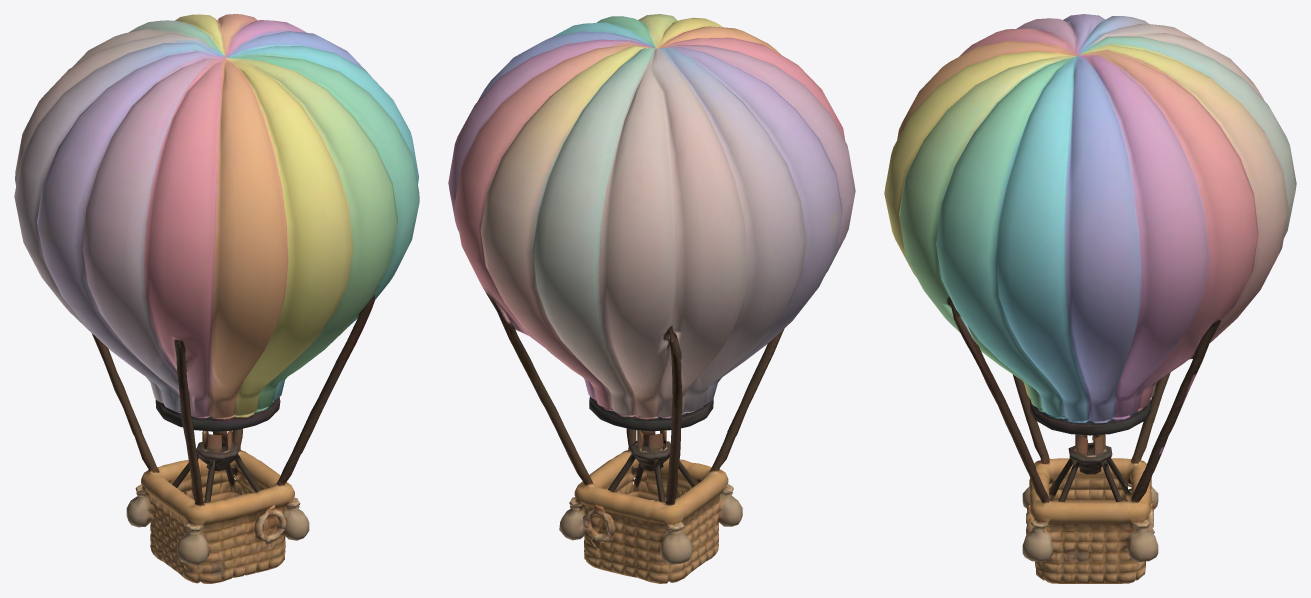
File: balloon.glb
3 views of the same model, side by side, from view 1: azimuth 30°, elevation 25°; view 2: azimuth 150°, elevation 25°; view 3: azimuth 270°, elevation 25° (orthographic).
Visible parts, largest first — view 1: tripo_node_cbbbb515-3ea7-44c8-9be0-52df7f7c4193; view 2: tripo_node_cbbbb515-3ea7-44c8-9be0-52df7f7c4193; view 3: tripo_node_cbbbb515-3ea7-44c8-9be0-52df7f7c4193.
Boxes of the visible parts, x1=… form: tripo_node_cbbbb515-3ea7-44c8-9be0-52df7f7c4193: x1=14, y1=14, x2=419, y2=583; tripo_node_cbbbb515-3ea7-44c8-9be0-52df7f7c4193: x1=448, y1=14, x2=855, y2=583; tripo_node_cbbbb515-3ea7-44c8-9be0-52df7f7c4193: x1=884, y1=14, x2=1296, y2=583.
Bounding box in the file's own units: 0.6987 × 0.9782 × 0.7025.
1 material, 1 textured.
